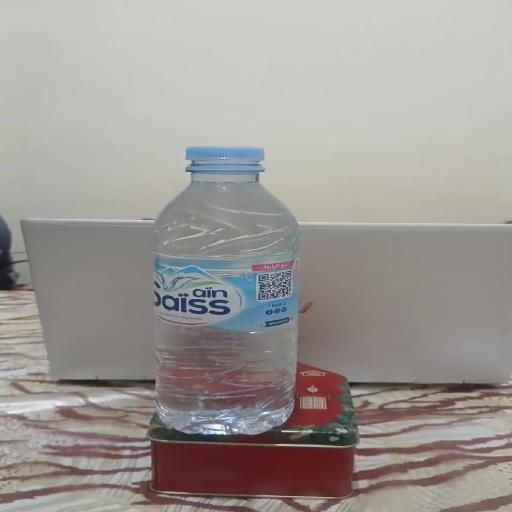bouteille non conformite: (127, 129, 325, 438), (171, 138, 274, 186)
